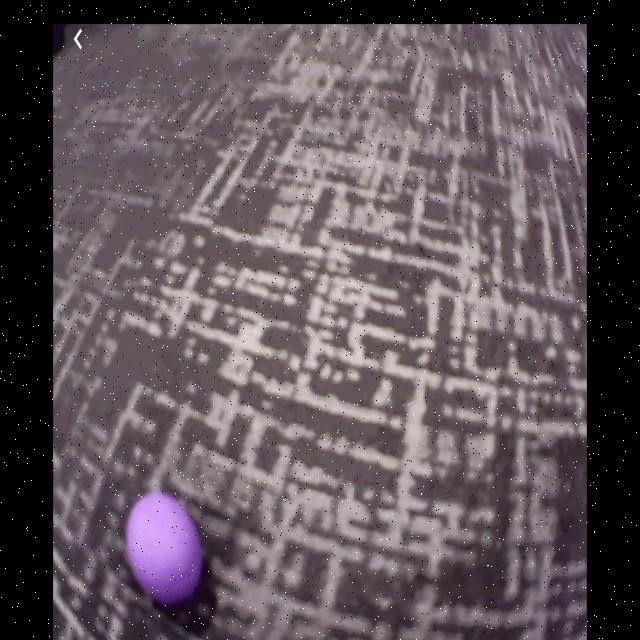ball: (127, 494, 202, 607)
